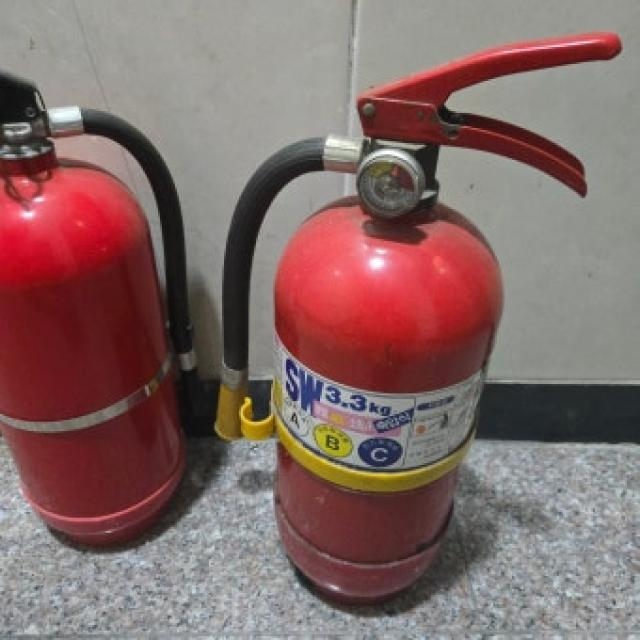pressure gauge: (356, 149, 422, 216)
